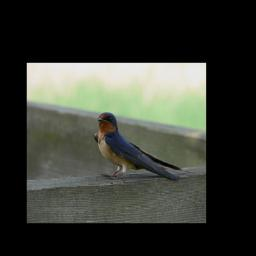Swallow: (92, 111, 197, 183)
